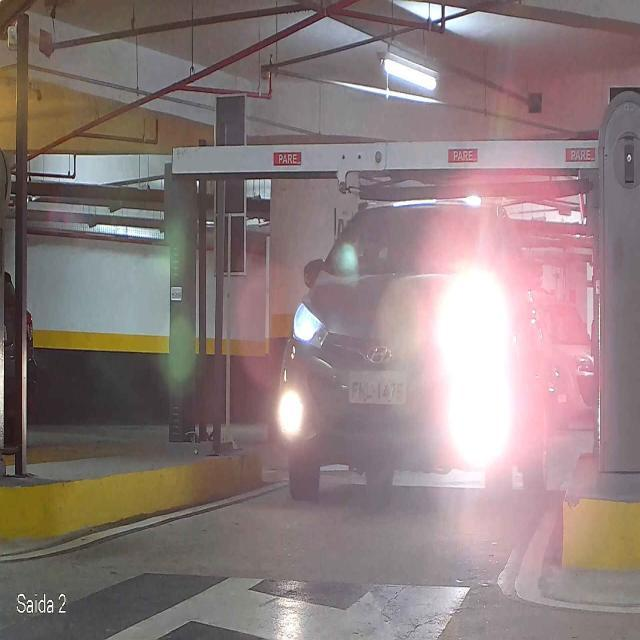old_plate: (346, 369, 411, 406)
